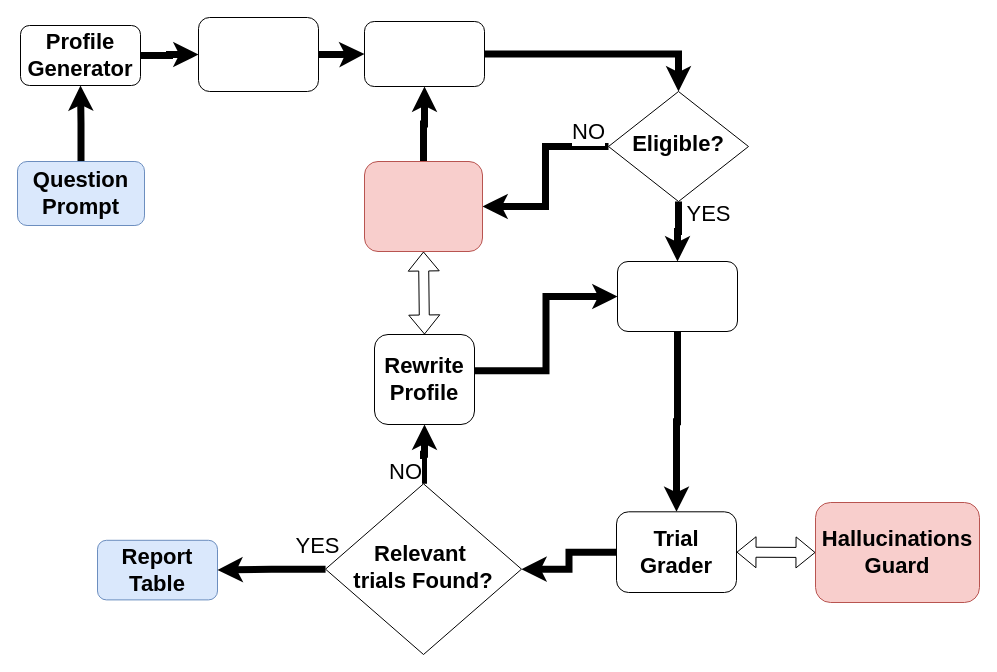
Image size: 997x672. Some labels were removed from this diagram. Here are the shapes that lost their labels. From the top down, the box of each, then its label:
(198, 16, 318, 92): Policy Search
(364, 20, 484, 86): Policy Evaluator
(364, 160, 482, 252): Human In the Loop
(616, 260, 738, 332): Trial Search
